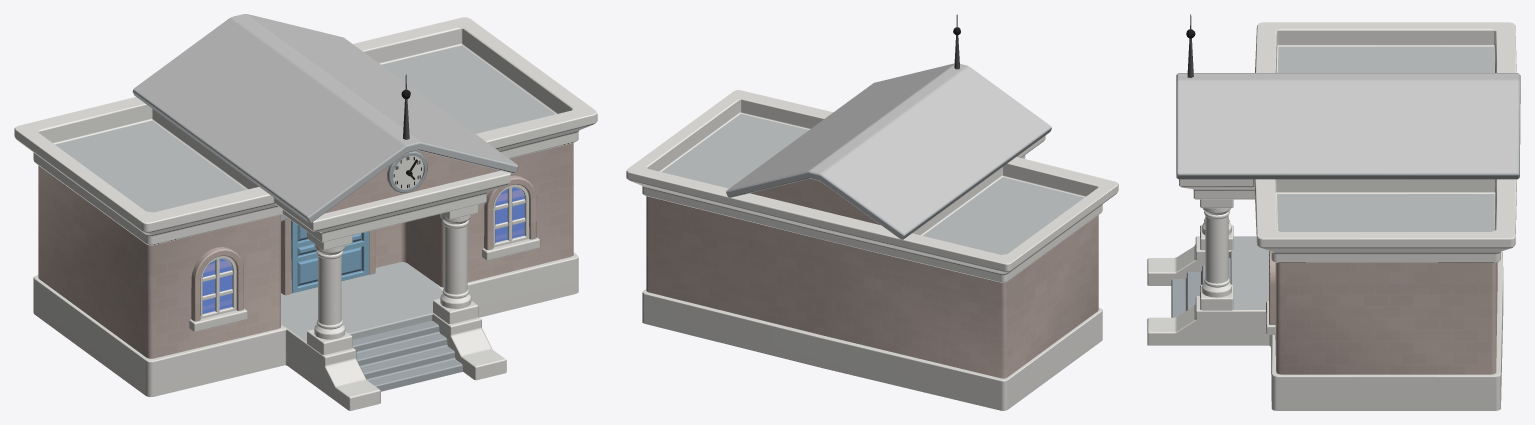
Rendered from CommunityCentre.fbx.
3 renders of one model, left to right at view 1: azimuth 30°, elevation 25°; view 2: azimuth 150°, elevation 25°; view 3: azimuth 270°, elevation 25°, orthographic. The views are drawn at different scales.
Parts seen in each view (by area): view 1: CommunityCentreBuilding, CommunityCentreDoor, Clock; view 2: CommunityCentreBuilding; view 3: CommunityCentreBuilding.
Part boxes in pixels (x1=…): CommunityCentreBuilding: x1=14, y1=14, x2=597, y2=410; CommunityCentreDoor: x1=291, y1=220, x2=369, y2=292; Clock: x1=387, y1=151, x2=427, y2=193; CommunityCentreBuilding: x1=626, y1=14, x2=1118, y2=410; CommunityCentreBuilding: x1=1147, y1=14, x2=1520, y2=410.
Size of the model in its own units: 1596 by 1012 by 1164.
